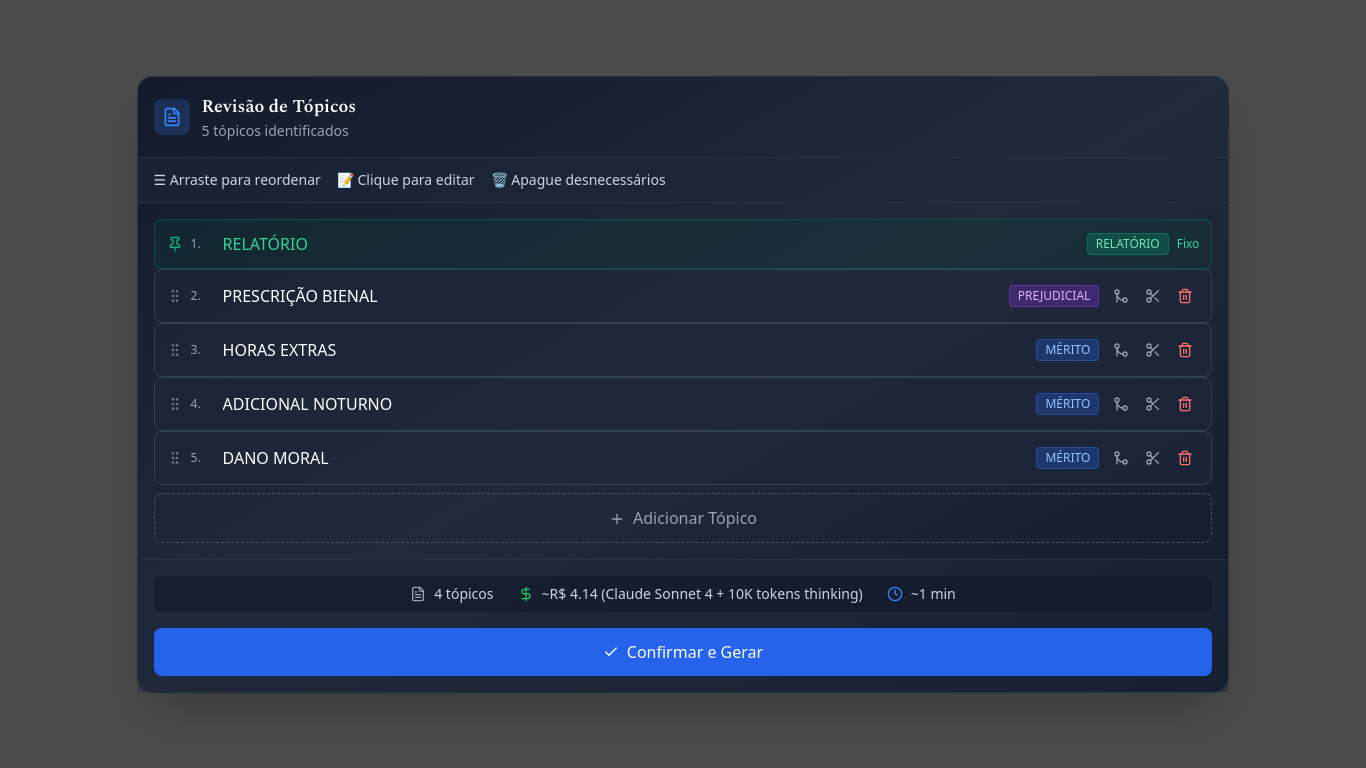
TopicCurationModal - Mesclagem › deve mostrar botão de mesclar quando 2+ tópicos selecionados
Click the button titled "Selecionar para mesclar" in the row of "HORAS EXTRAS": x=1121, y=350 [1107,336,1135,364]
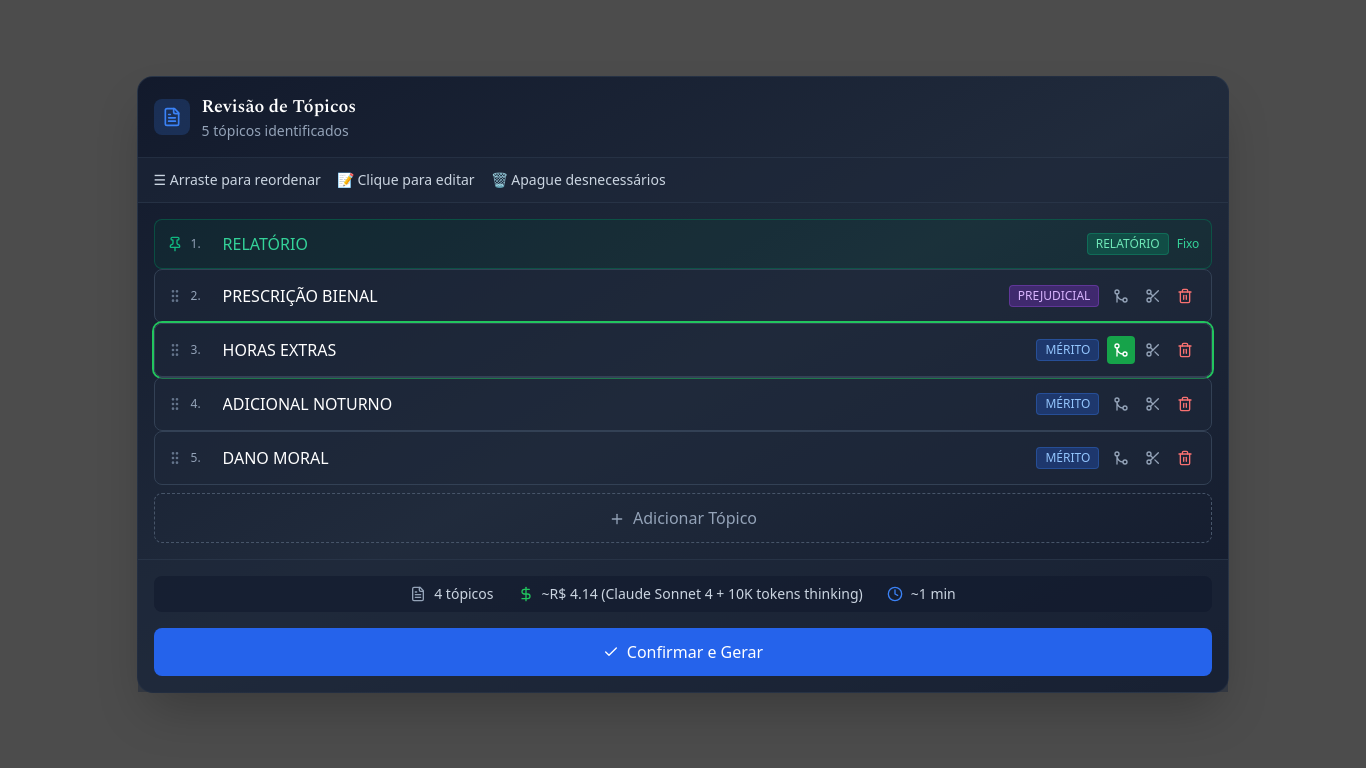
Click the button titled "Selecionar para mesclar" in the row of "ADICIONAL NOTURNO": x=1121, y=404 [1107,390,1135,418]
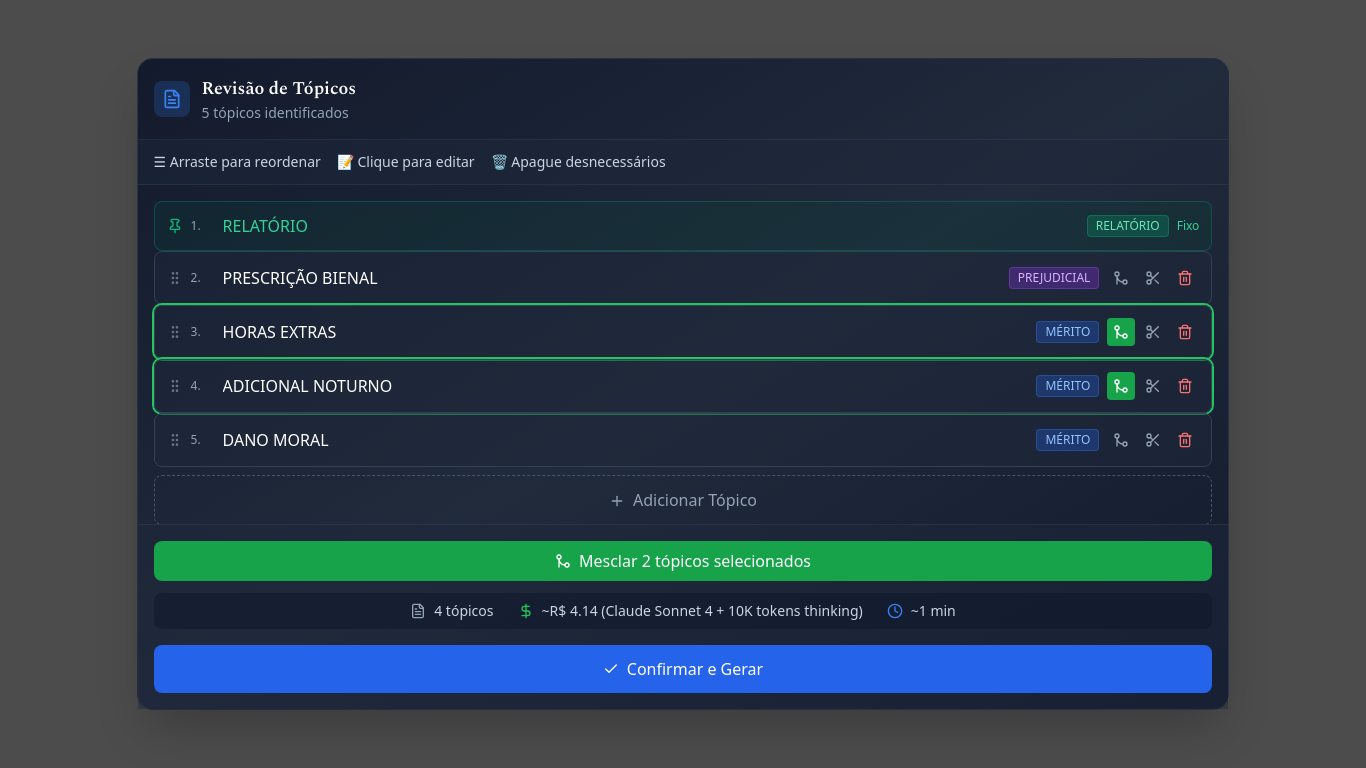
Expected: the button "Mesclar 2 tópicos selecionados" is shown, [154,541,1212,581]
